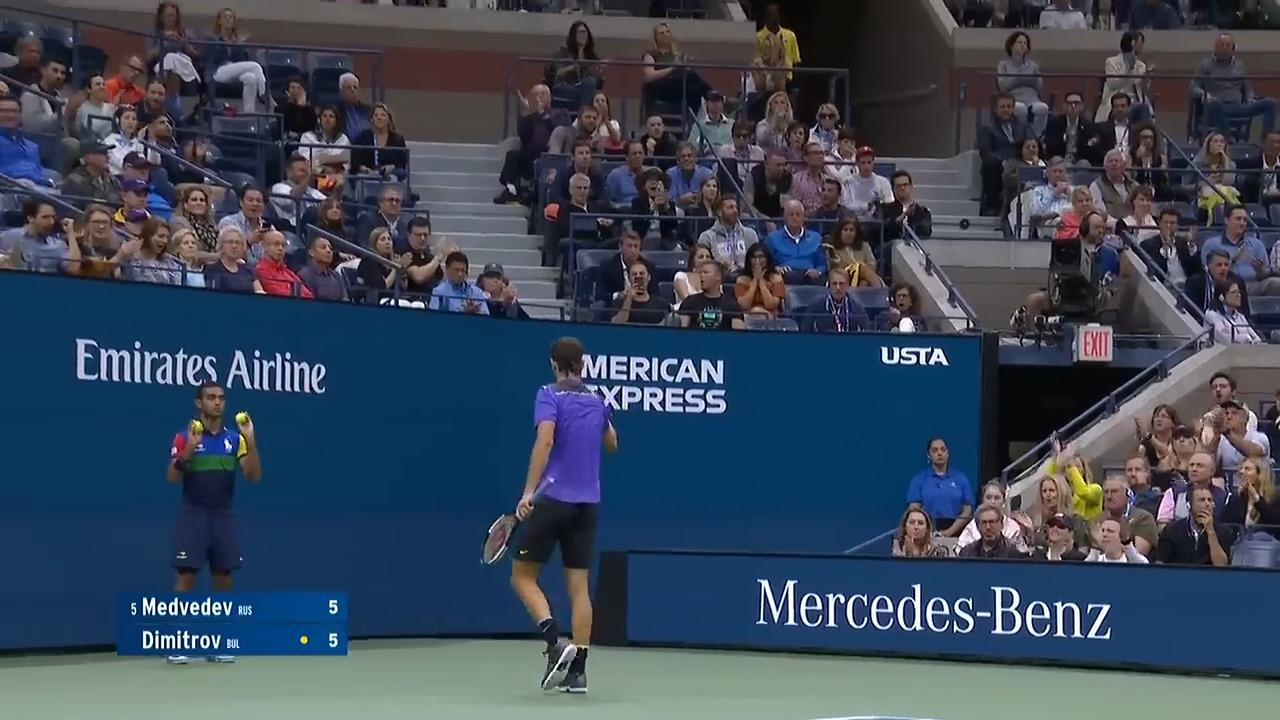tennis racket: (482, 512, 520, 564), (538, 480, 548, 494)
